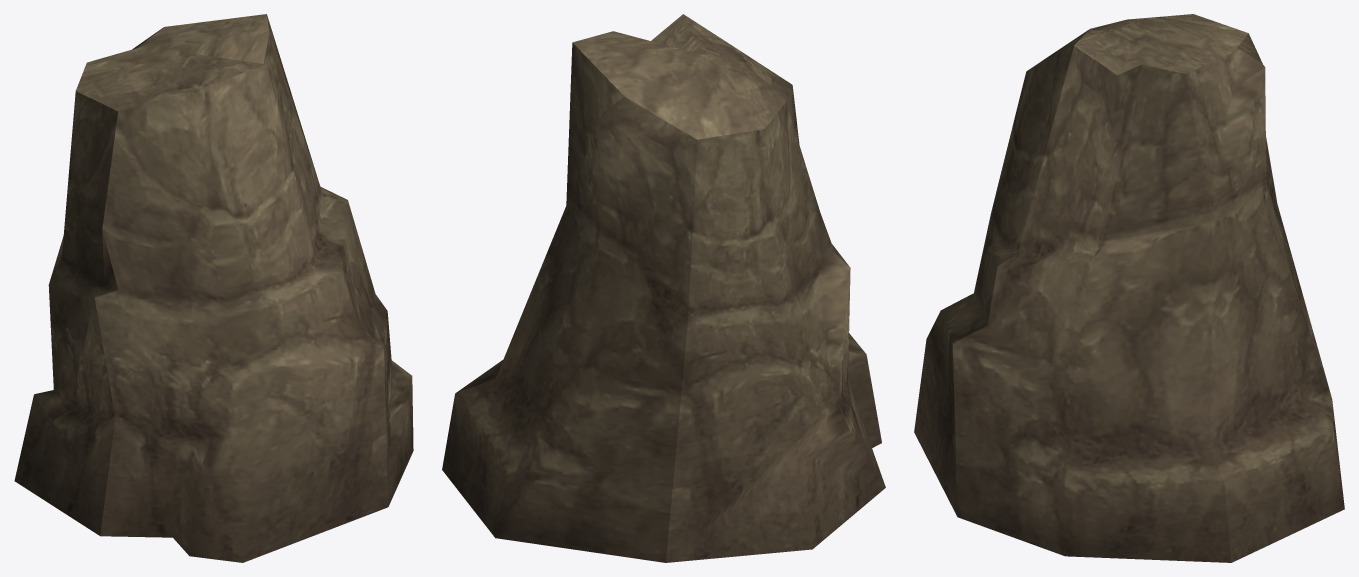
The model's file is Stone01_shandi_004.FBX.
3 renders of one model, left to right at view 1: azimuth 30°, elevation 25°; view 2: azimuth 150°, elevation 25°; view 3: azimuth 270°, elevation 25°, orthographic. The views are drawn at different scales.
Parts seen in each view (by area): view 1: Stone01_shandi_004; view 2: Stone01_shandi_004; view 3: Stone01_shandi_004.
Boxes of the visible parts, x1=… form: Stone01_shandi_004: x1=14, y1=14, x2=413, y2=562; Stone01_shandi_004: x1=442, y1=14, x2=885, y2=562; Stone01_shandi_004: x1=914, y1=14, x2=1344, y2=562.
Bounding box in the file's own units: 271 × 316 × 282.
